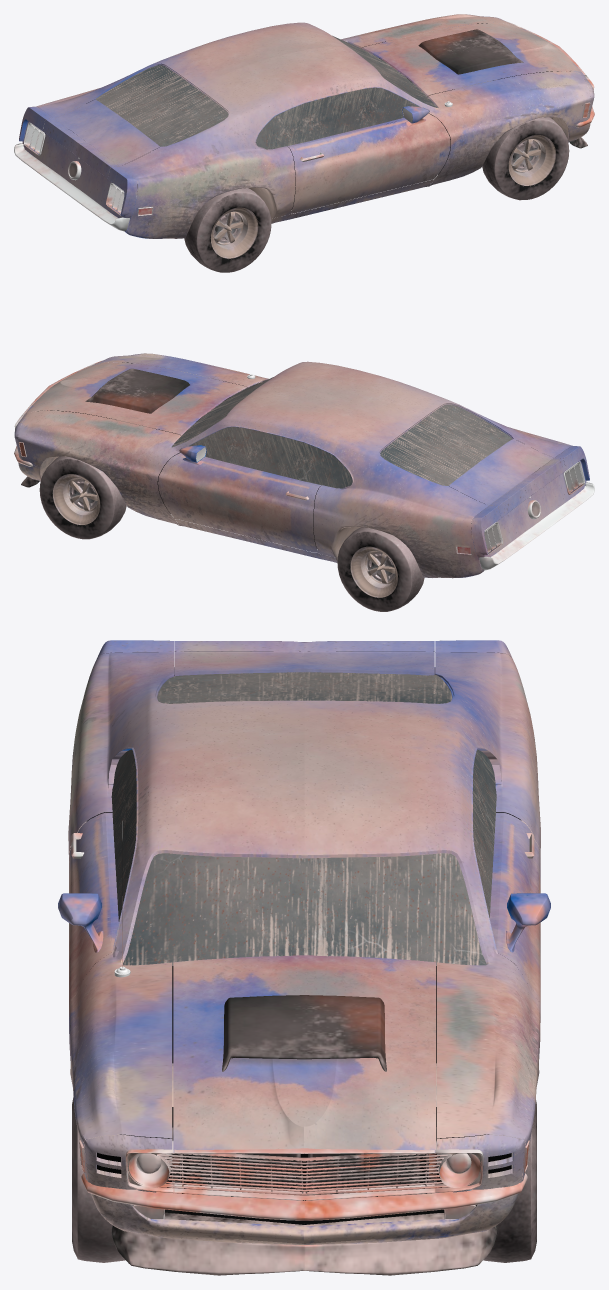
The model's file is Damaged Mustang_01.fbx.
3 renders of one model, top to bottom at view 1: azimuth 30°, elevation 25°; view 2: azimuth 150°, elevation 25°; view 3: azimuth 270°, elevation 25°, orthographic. The views are drawn at different scales.
Visible parts, largest first — view 1: geo_mustang_exterior_low, geo_mustang_glass_low, geo_mustang_parts_low, geo_tire_rr_low, geo_tire_fr_low; view 2: geo_mustang_exterior_low, geo_mustang_glass_low, geo_mustang_parts_low, geo_tire_rl_low, geo_tire_fl_low; view 3: geo_mustang_exterior_low, geo_mustang_parts_low, geo_mustang_glass_low, geo_tire_fr_low, geo_tire_fl_low.
Part boxes in pixels (<box>): geo_mustang_exterior_low: <box>19,14,594,238</box>; geo_mustang_glass_low: <box>96,35,436,149</box>; geo_mustang_parts_low: <box>14,21,594,231</box>; geo_tire_rr_low: <box>184,188,271,272</box>; geo_tire_fr_low: <box>482,117,569,200</box>; geo_mustang_exterior_low: <box>14,353,589,578</box>; geo_mustang_glass_low: <box>172,377,512,488</box>; geo_mustang_parts_low: <box>14,361,594,570</box>; geo_tire_rl_low: <box>337,527,424,611</box>; geo_tire_fl_low: <box>39,456,126,539</box>; geo_mustang_exterior_low: <box>68,640,540,1244</box>; geo_mustang_parts_low: <box>58,821,550,1275</box>; geo_mustang_glass_low: <box>111,672,496,965</box>; geo_tire_fr_low: <box>72,1097,125,1262</box>; geo_tire_fl_low: <box>483,1100,536,1262</box>.
Bounding box in the file's own units: 3729 × 1284 × 1579.
